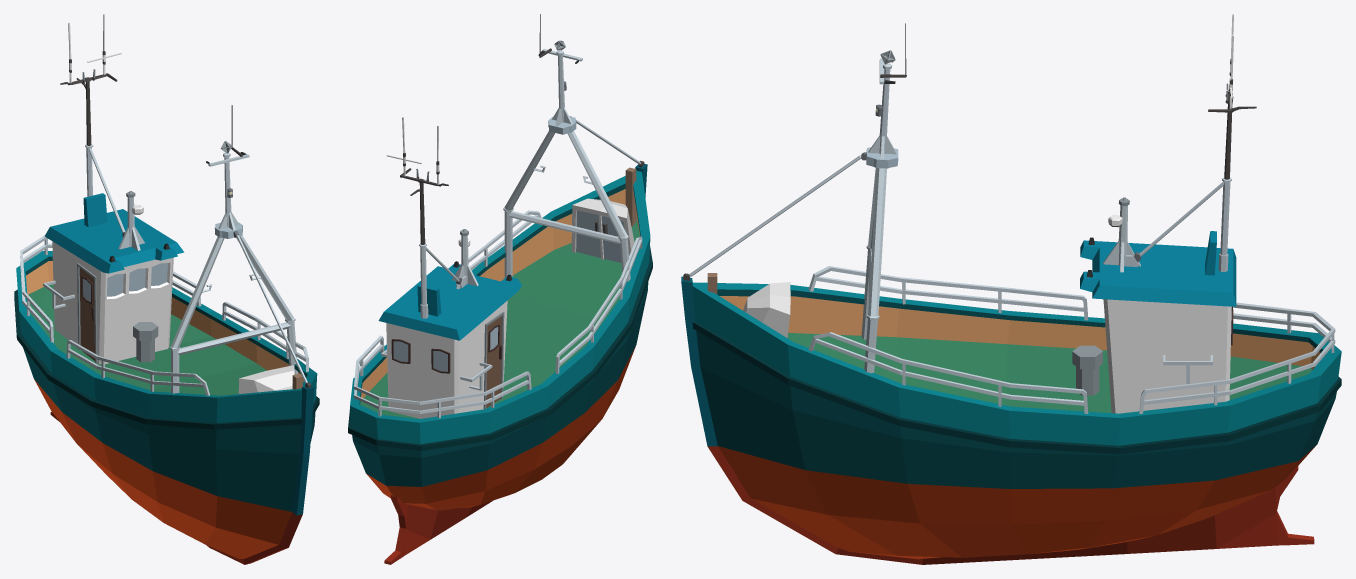
The model's file is Boat.fbx.
The picture shows the model from 3 angles, left to right: view 1: azimuth 30°, elevation 25°; view 2: azimuth 150°, elevation 25°; view 3: azimuth 270°, elevation 25°; orthographic projection. The views are drawn at different scales.
Visible parts, largest first — view 1: Boat1; view 2: Boat1; view 3: Boat1.
Boxes of the visible parts, x1,y1,x2,y2 form: Boat1: (14, 14, 319, 564); Boat1: (348, 14, 652, 564); Boat1: (681, 14, 1341, 564).
Size of the model in its own units: 229 by 567 by 621.
